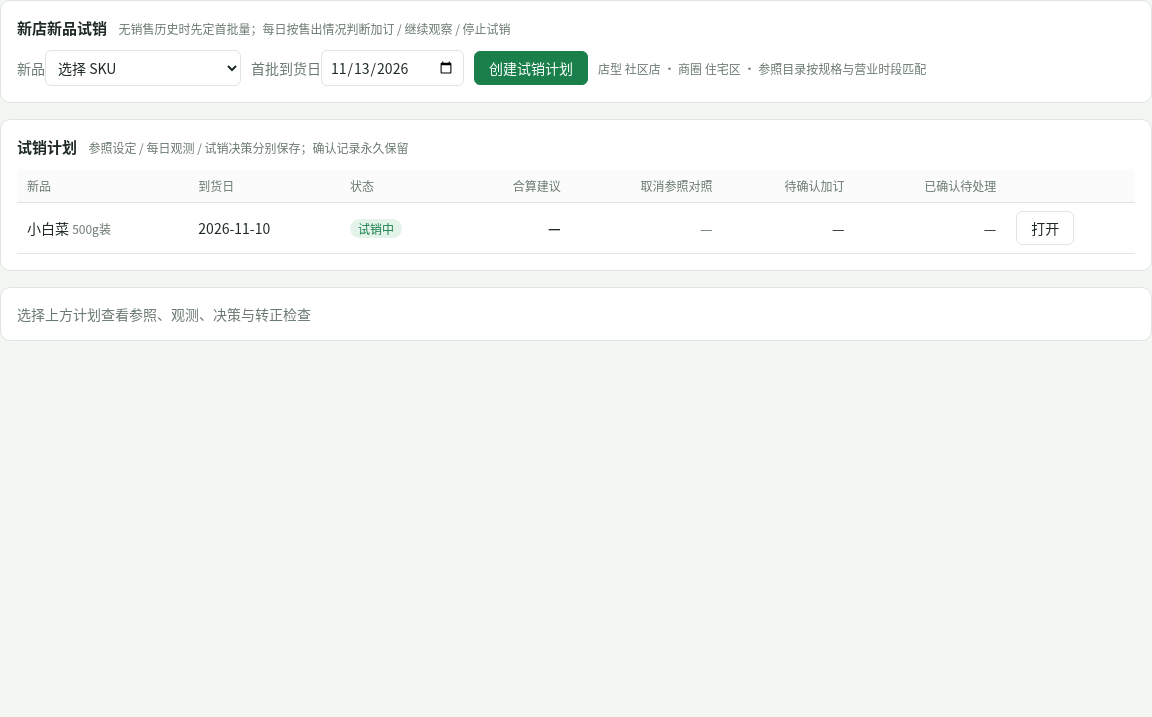
Scenario: 试销页面 › 渲染计划明细，并且合算建议来自前端实时计算
Click the button "打开" at (1045, 228), box [1016,211,1074,245]
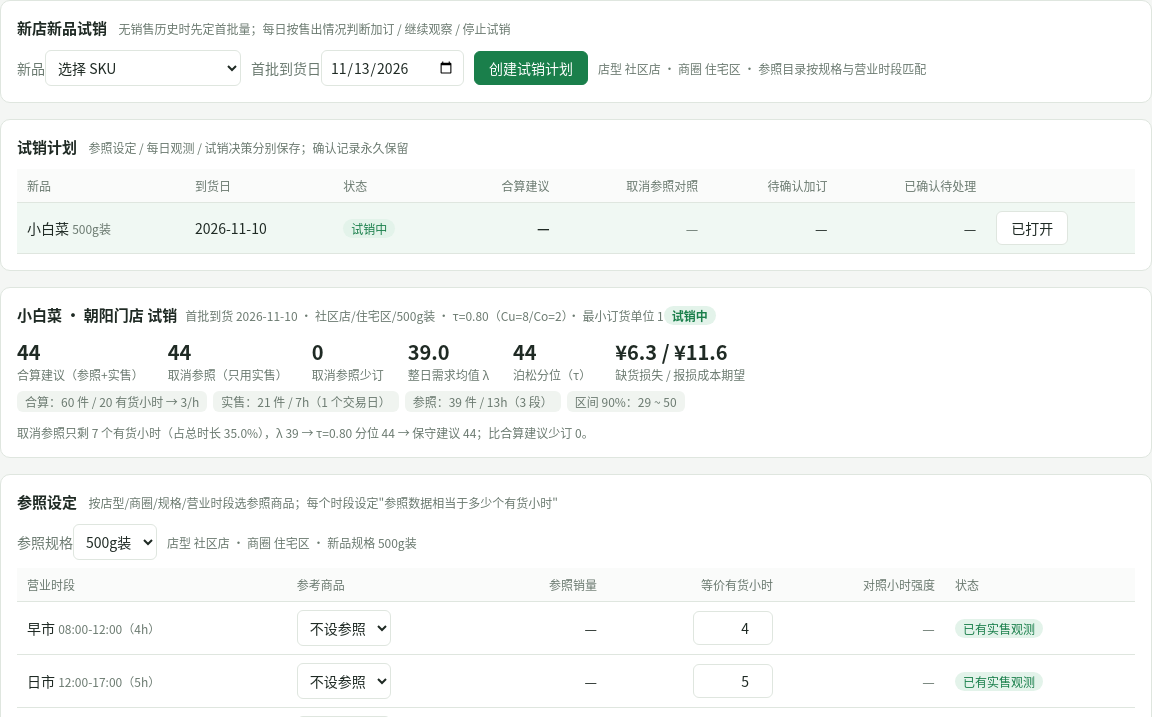
Expected: the text "合算建议（参照+实售）" is shown, [17,366,144,383]
Expected: the text "39" is shown, [408,337,450,366]
Expected: the text "取消参照（只用实售）" is shown, [168,366,288,383]
